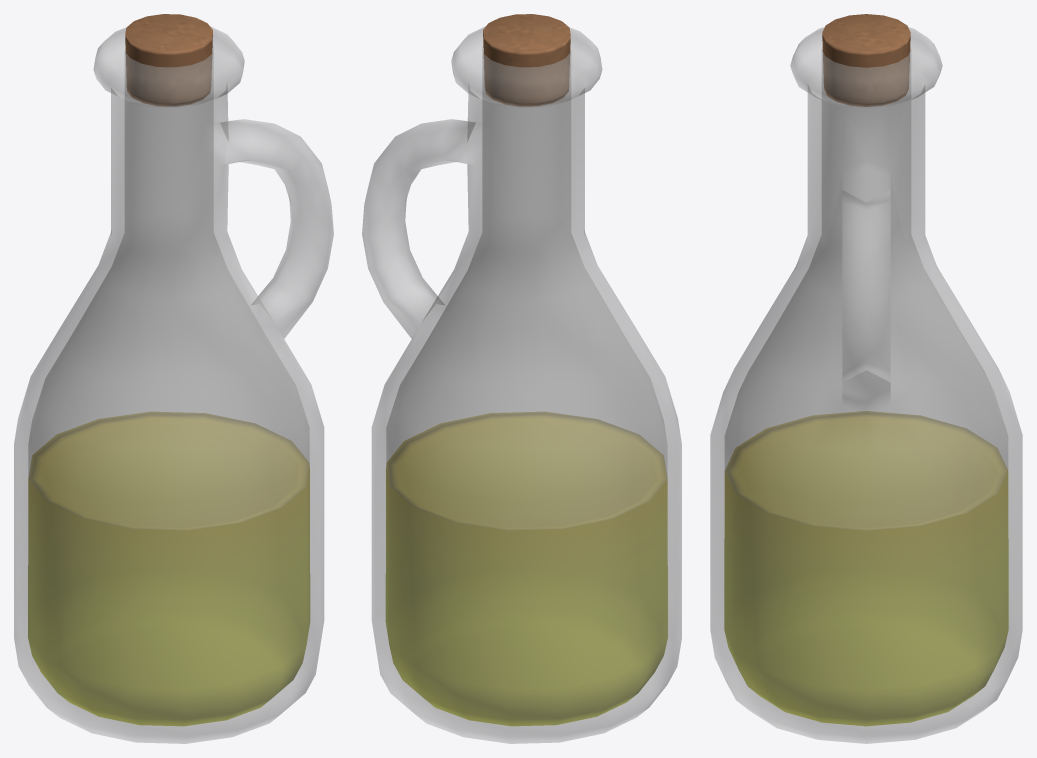
The model's file is pi_oliveoil01.gltf.
3 renders of one model, left to right at view 1: azimuth 30°, elevation 25°; view 2: azimuth 150°, elevation 25°; view 3: azimuth 270°, elevation 25°, orthographic.
Visible parts, largest first — view 1: pi_oliveoil01_bottle_outside_mesh_shape:pi_oliveoil01_glass, pi_oliveoil01_inside_mesh_shape:pi_oliveoil01_body, pi_oliveoil01_bottle_inside_mesh_shape:pi_oliveoil01_glass, pi_oliveoil01_lid_mesh_shape:pi_oliveoil01_lid; view 2: pi_oliveoil01_bottle_outside_mesh_shape:pi_oliveoil01_glass, pi_oliveoil01_inside_mesh_shape:pi_oliveoil01_body, pi_oliveoil01_bottle_inside_mesh_shape:pi_oliveoil01_glass, pi_oliveoil01_lid_mesh_shape:pi_oliveoil01_lid; view 3: pi_oliveoil01_bottle_outside_mesh_shape:pi_oliveoil01_glass, pi_oliveoil01_inside_mesh_shape:pi_oliveoil01_body, pi_oliveoil01_bottle_inside_mesh_shape:pi_oliveoil01_glass, pi_oliveoil01_lid_mesh_shape:pi_oliveoil01_lid.
Part boxes in pixels (bbox=[...]): pi_oliveoil01_bottle_outside_mesh_shape:pi_oliveoil01_glass: bbox=[14, 26, 333, 743]; pi_oliveoil01_inside_mesh_shape:pi_oliveoil01_body: bbox=[28, 412, 310, 726]; pi_oliveoil01_bottle_inside_mesh_shape:pi_oliveoil01_glass: bbox=[28, 46, 309, 529]; pi_oliveoil01_lid_mesh_shape:pi_oliveoil01_lid: bbox=[125, 14, 212, 106]; pi_oliveoil01_bottle_outside_mesh_shape:pi_oliveoil01_glass: bbox=[362, 26, 681, 743]; pi_oliveoil01_inside_mesh_shape:pi_oliveoil01_body: bbox=[385, 412, 667, 726]; pi_oliveoil01_bottle_inside_mesh_shape:pi_oliveoil01_glass: bbox=[386, 46, 667, 529]; pi_oliveoil01_lid_mesh_shape:pi_oliveoil01_lid: bbox=[483, 14, 570, 106]; pi_oliveoil01_bottle_outside_mesh_shape:pi_oliveoil01_glass: bbox=[710, 27, 1022, 743]; pi_oliveoil01_inside_mesh_shape:pi_oliveoil01_body: bbox=[724, 411, 1008, 726]; pi_oliveoil01_bottle_inside_mesh_shape:pi_oliveoil01_glass: bbox=[725, 48, 1007, 530]; pi_oliveoil01_lid_mesh_shape:pi_oliveoil01_lid: bbox=[822, 14, 910, 106].
Size of the model in its own units: 0.0672 by 0.1418 by 0.0611.
Materials: 3 (3 with a texture image).
